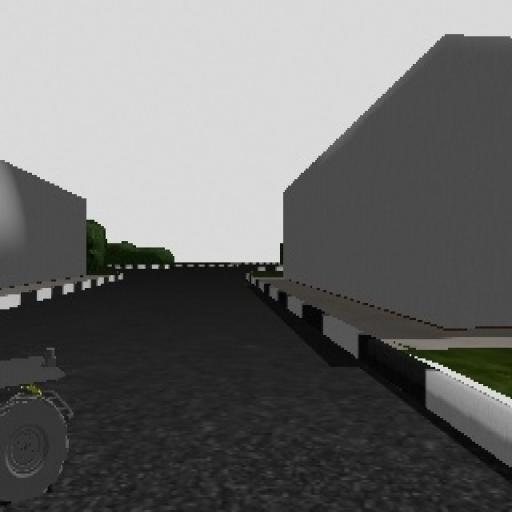huskya200: (0, 339, 82, 512)
